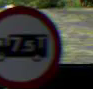Heavy Vehicles: (0, 5, 63, 84)
